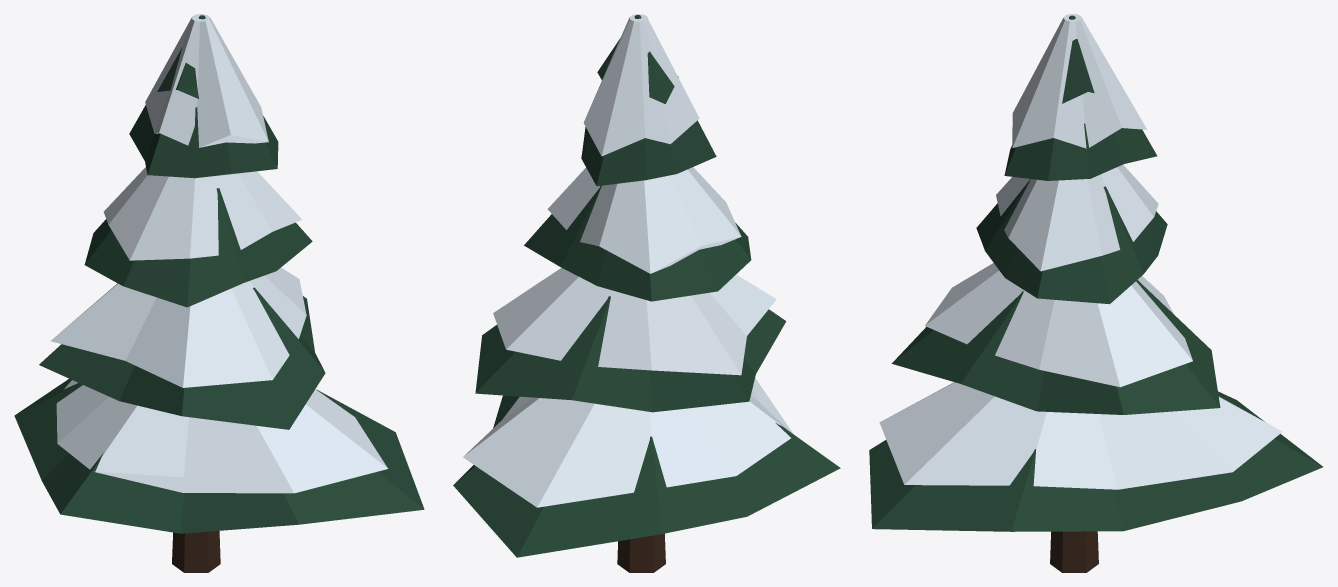
File: Station_Pine_3_0_0.fbx
3 renders of one model, left to right at view 1: azimuth 30°, elevation 25°; view 2: azimuth 150°, elevation 25°; view 3: azimuth 270°, elevation 25°, orthographic.
Parts seen in each view (by area): view 1: Station_Pine_3_0_0; view 2: Station_Pine_3_0_0; view 3: Station_Pine_3_0_0.
Part boxes in pixels (x1,y1,x2,y2): Station_Pine_3_0_0: (14,14,424,572); Station_Pine_3_0_0: (453,14,840,572); Station_Pine_3_0_0: (869,14,1322,572).
Bounding box in the file's own units: 413 × 644 × 482.
